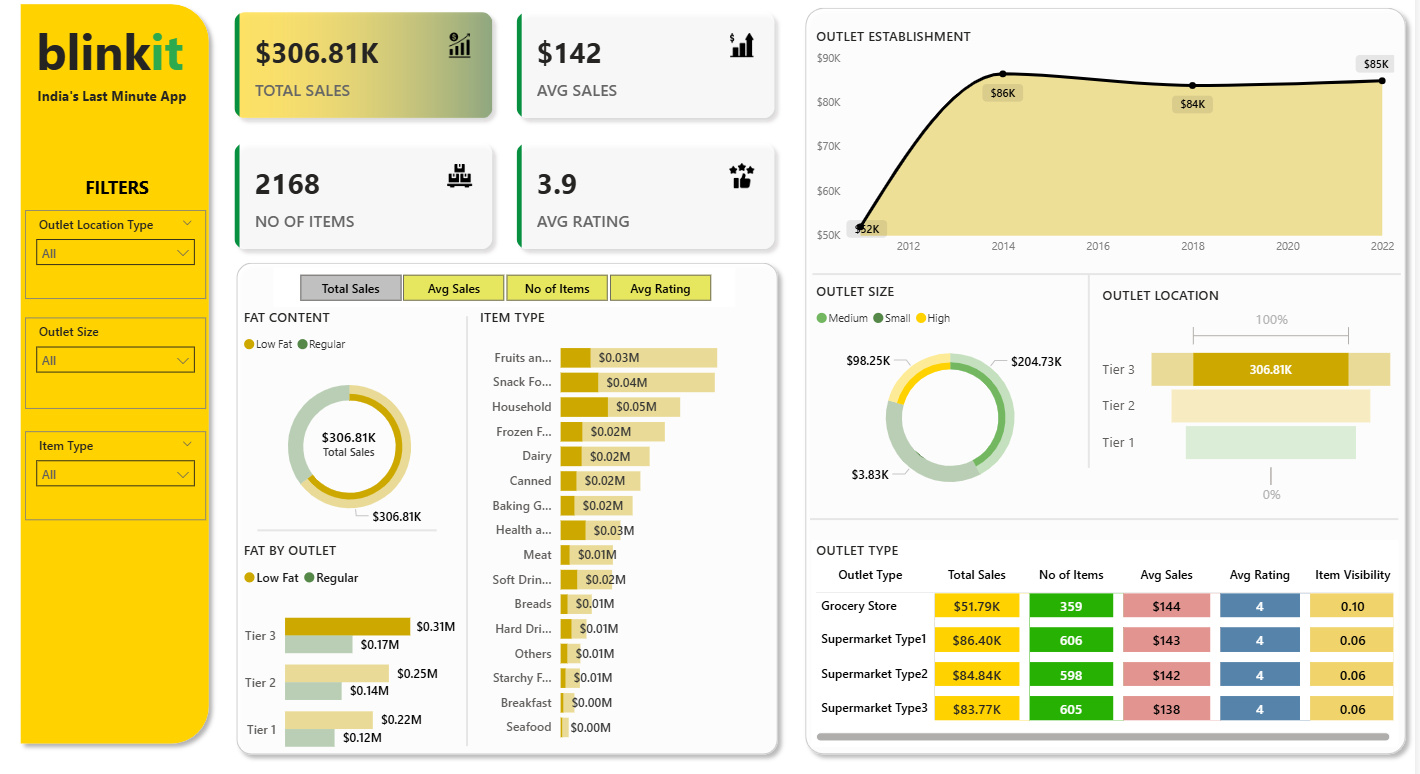

What the dashboard file says about the page in this screenshot:
{"tool":"powerbi","page":{"name":"Page 1","canvas":[1400,800],"ordinal":0},"visuals":[{"type":"shape","box":[10.9,15,204.5,749.8],"z":0},{"type":"textbox","box":[31.4,32.7,165,83.2],"z":1000},{"type":"textbox","box":[28.9,98.7,167.1,34.2],"z":2000},{"type":"cardVisual","fields":{"Data":["BlinkIT Grocery Data.Total Sales","BlinkIT Grocery Data.Avg Sales","BlinkIT Grocery Data.No of Items","BlinkIT Grocery Data.Avg Rating"]},"box":[215.4,15,569.9,269.9],"z":3000},{"type":"shape","box":[225,271.3,553.5,504.4],"z":4000},{"type":"donutChart","title":"FAT CONTENT","fields":{"Y":["BlinkIT Grocery Data.Total Sales"],"Category":["BlinkIT Grocery Data.Item Fat Content"]},"box":[235.9,324.5,219.5,230.4],"z":5000},{"type":"slicer","fields":{"Values":["Metrics.Metrics"]},"box":[271.3,284.9,456.7,39.5],"z":6000},{"type":"cardVisual","fields":{"Data":["BlinkIT Grocery Data.Total Sales"]},"box":[298.6,425.4,94.1,62.7],"z":7000},{"type":"clusteredBarChart","title":"FAT BY OUTLET","fields":{"Y":["BlinkIT Grocery Data.Total Sales"],"Category":["BlinkIT Grocery Data.Outlet Location Type"],"Series":["BlinkIT Grocery Data.Item Fat Content"]},"box":[236.8,553.9,219.7,230.3],"z":8000},{"type":"shape","box":[254.9,534.4,177.2,20.5],"z":9000},{"type":"shape","box":[454,332.7,16.4,425.4],"z":10000},{"type":"barChart","title":"ITEM TYPE","fields":{"Y":["BlinkIT Grocery Data.Total Sales"],"Category":["BlinkIT Grocery Data.Item Type"]},"box":[470.4,324.5,286.3,440.4],"z":11000},{"type":"shape","box":[788,19.1,612.1,756.7],"z":12000},{"type":"lineChart","title":"OUTLET ESTABLISHMENT","fields":{"Y":["BlinkIT Grocery Data.Total Sales"],"Category":["BlinkIT Grocery Data.Outlet Establishment Year"]},"box":[803,46.4,582.1,234.5],"z":13000},{"type":"shape","box":[804.4,280.8,582.1,20.5],"z":14000},{"type":"donutChart","title":"OUTLET SIZE","fields":{"Y":["BlinkIT Grocery Data.Total Sales"],"Category":["BlinkIT Grocery Data.Outlet Size"]},"box":[803,298.6,275.4,225],"z":15000},{"type":"shape","box":[1070.2,290.4,15,192.2],"z":16000},{"type":"funnel","title":"OUTLET LOCATION","fields":{"Y":["Sum(BlinkIT Grocery Data.Sales)"],"Category":["BlinkIT Grocery Data.Outlet Location Type"]},"box":[1086.6,301.3,299.9,222.2],"z":17000},{"type":"shape","box":[801.6,523.5,582.1,20.5],"z":18000},{"type":"pivotTable","title":"OUTLET TYPE","fields":{"Rows":["BlinkIT Grocery Data.Outlet Type"],"Values":["BlinkIT Grocery Data.Total Sales","BlinkIT Grocery Data.No of Items","BlinkIT Grocery Data.Avg Sales","BlinkIT Grocery Data.Avg Rating","Avg(BlinkIT Grocery Data.Item Visibility)"]},"box":[803,553.5,580.8,204.5],"z":19000},{"type":"slicer","fields":{"Values":["BlinkIT Grocery Data.Outlet Location Type"]},"box":[25,227.6,178.9,88.2],"z":20000},{"type":"slicer","fields":{"Values":["BlinkIT Grocery Data.Outlet Size"]},"box":[25,334.2,178.9,90.8],"z":21000},{"type":"slicer","fields":{"Values":["BlinkIT Grocery Data.Item Type"]},"box":[25,446.1,178.9,88.2],"z":22000},{"type":"shape","title":"FILTERS","box":[72.4,193.4,85.5,25],"z":23000}]}

Visuals, with their boxes on the page's 1400x800 design canvas (x1, y1, x2, y2). These are canvas units, not pixel positions in the 1420x774 screenshot, which may show the page scaled, cropped or inside an application window:
shape: {"left": 11, "top": 15, "right": 215, "bottom": 765}
textbox: {"left": 31, "top": 33, "right": 196, "bottom": 116}
textbox: {"left": 29, "top": 99, "right": 196, "bottom": 133}
cardVisual - BlinkIT Grocery Data.Total Sales x BlinkIT Grocery Data.Avg Sales: {"left": 215, "top": 15, "right": 785, "bottom": 285}
shape: {"left": 225, "top": 271, "right": 778, "bottom": 776}
"FAT CONTENT" donutChart: {"left": 236, "top": 324, "right": 455, "bottom": 555}
slicer - Metrics.Metrics: {"left": 271, "top": 285, "right": 728, "bottom": 324}
cardVisual - BlinkIT Grocery Data.Total Sales: {"left": 299, "top": 425, "right": 393, "bottom": 488}
"FAT BY OUTLET" clusteredBarChart: {"left": 237, "top": 554, "right": 456, "bottom": 784}
shape: {"left": 255, "top": 534, "right": 432, "bottom": 555}
shape: {"left": 454, "top": 333, "right": 470, "bottom": 758}
"ITEM TYPE" barChart: {"left": 470, "top": 324, "right": 757, "bottom": 765}
shape: {"left": 788, "top": 19, "right": 1400, "bottom": 776}
"OUTLET ESTABLISHMENT" lineChart: {"left": 803, "top": 46, "right": 1385, "bottom": 281}
shape: {"left": 804, "top": 281, "right": 1386, "bottom": 301}
"OUTLET SIZE" donutChart: {"left": 803, "top": 299, "right": 1078, "bottom": 524}
shape: {"left": 1070, "top": 290, "right": 1085, "bottom": 483}
"OUTLET LOCATION" funnel: {"left": 1087, "top": 301, "right": 1386, "bottom": 524}
shape: {"left": 802, "top": 524, "right": 1384, "bottom": 544}
"OUTLET TYPE" pivotTable: {"left": 803, "top": 554, "right": 1384, "bottom": 758}
slicer - BlinkIT Grocery Data.Outlet Location Type: {"left": 25, "top": 228, "right": 204, "bottom": 316}
slicer - BlinkIT Grocery Data.Outlet Size: {"left": 25, "top": 334, "right": 204, "bottom": 425}
slicer - BlinkIT Grocery Data.Item Type: {"left": 25, "top": 446, "right": 204, "bottom": 534}
"FILTERS" shape: {"left": 72, "top": 193, "right": 158, "bottom": 218}
